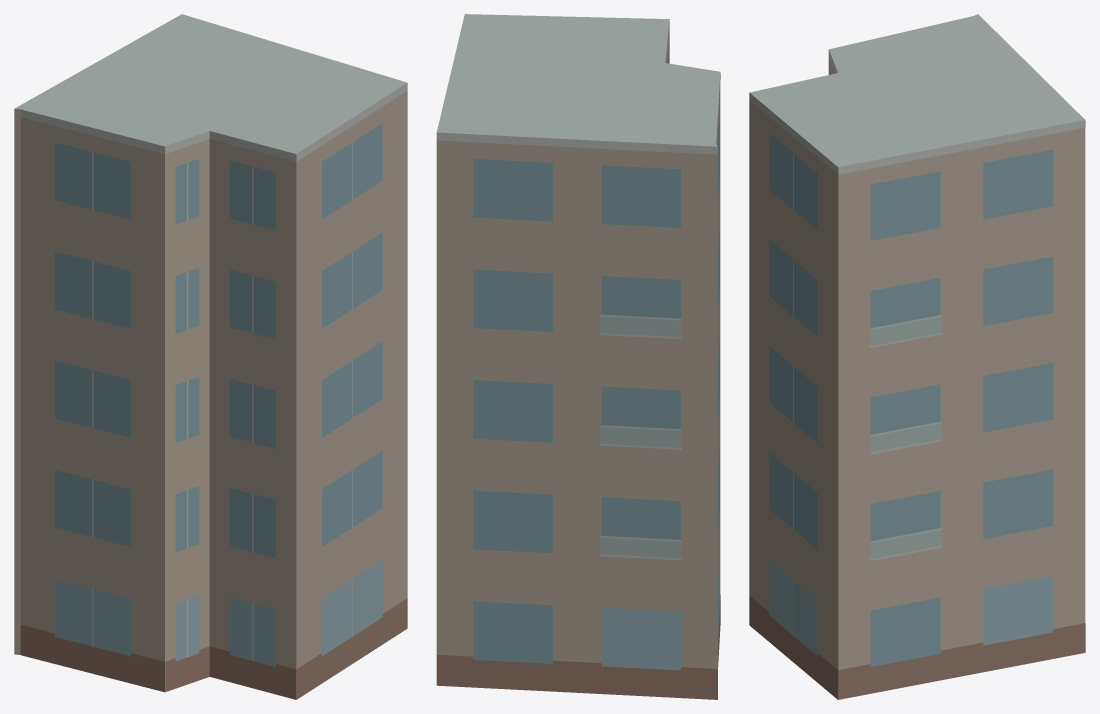
File: survey-upis-32863900.glb
The picture shows the model from 3 angles, left to right: view 1: azimuth 30°, elevation 25°; view 2: azimuth 150°, elevation 25°; view 3: azimuth 270°, elevation 25°; orthographic projection. The views are drawn at different scales.
Visible parts, largest first — view 1: survey-upis-32863900.tmp; view 2: survey-upis-32863900.tmp; view 3: survey-upis-32863900.tmp.
Boxes of the visible parts, box(x1,y1,x2,y2) form: survey-upis-32863900.tmp: box(14, 14, 407, 699); survey-upis-32863900.tmp: box(436, 14, 720, 699); survey-upis-32863900.tmp: box(749, 14, 1085, 699).
Size of the model in its own units: 10.5 by 17.01 by 9.73.
